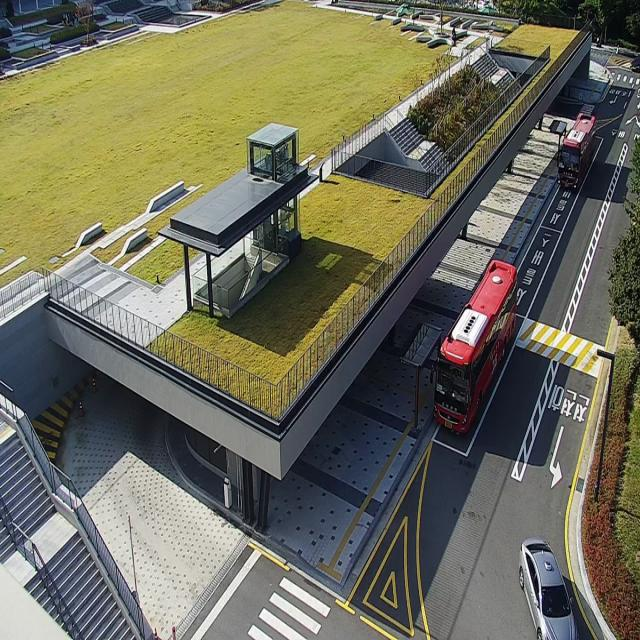queue: (416, 326, 440, 436)
